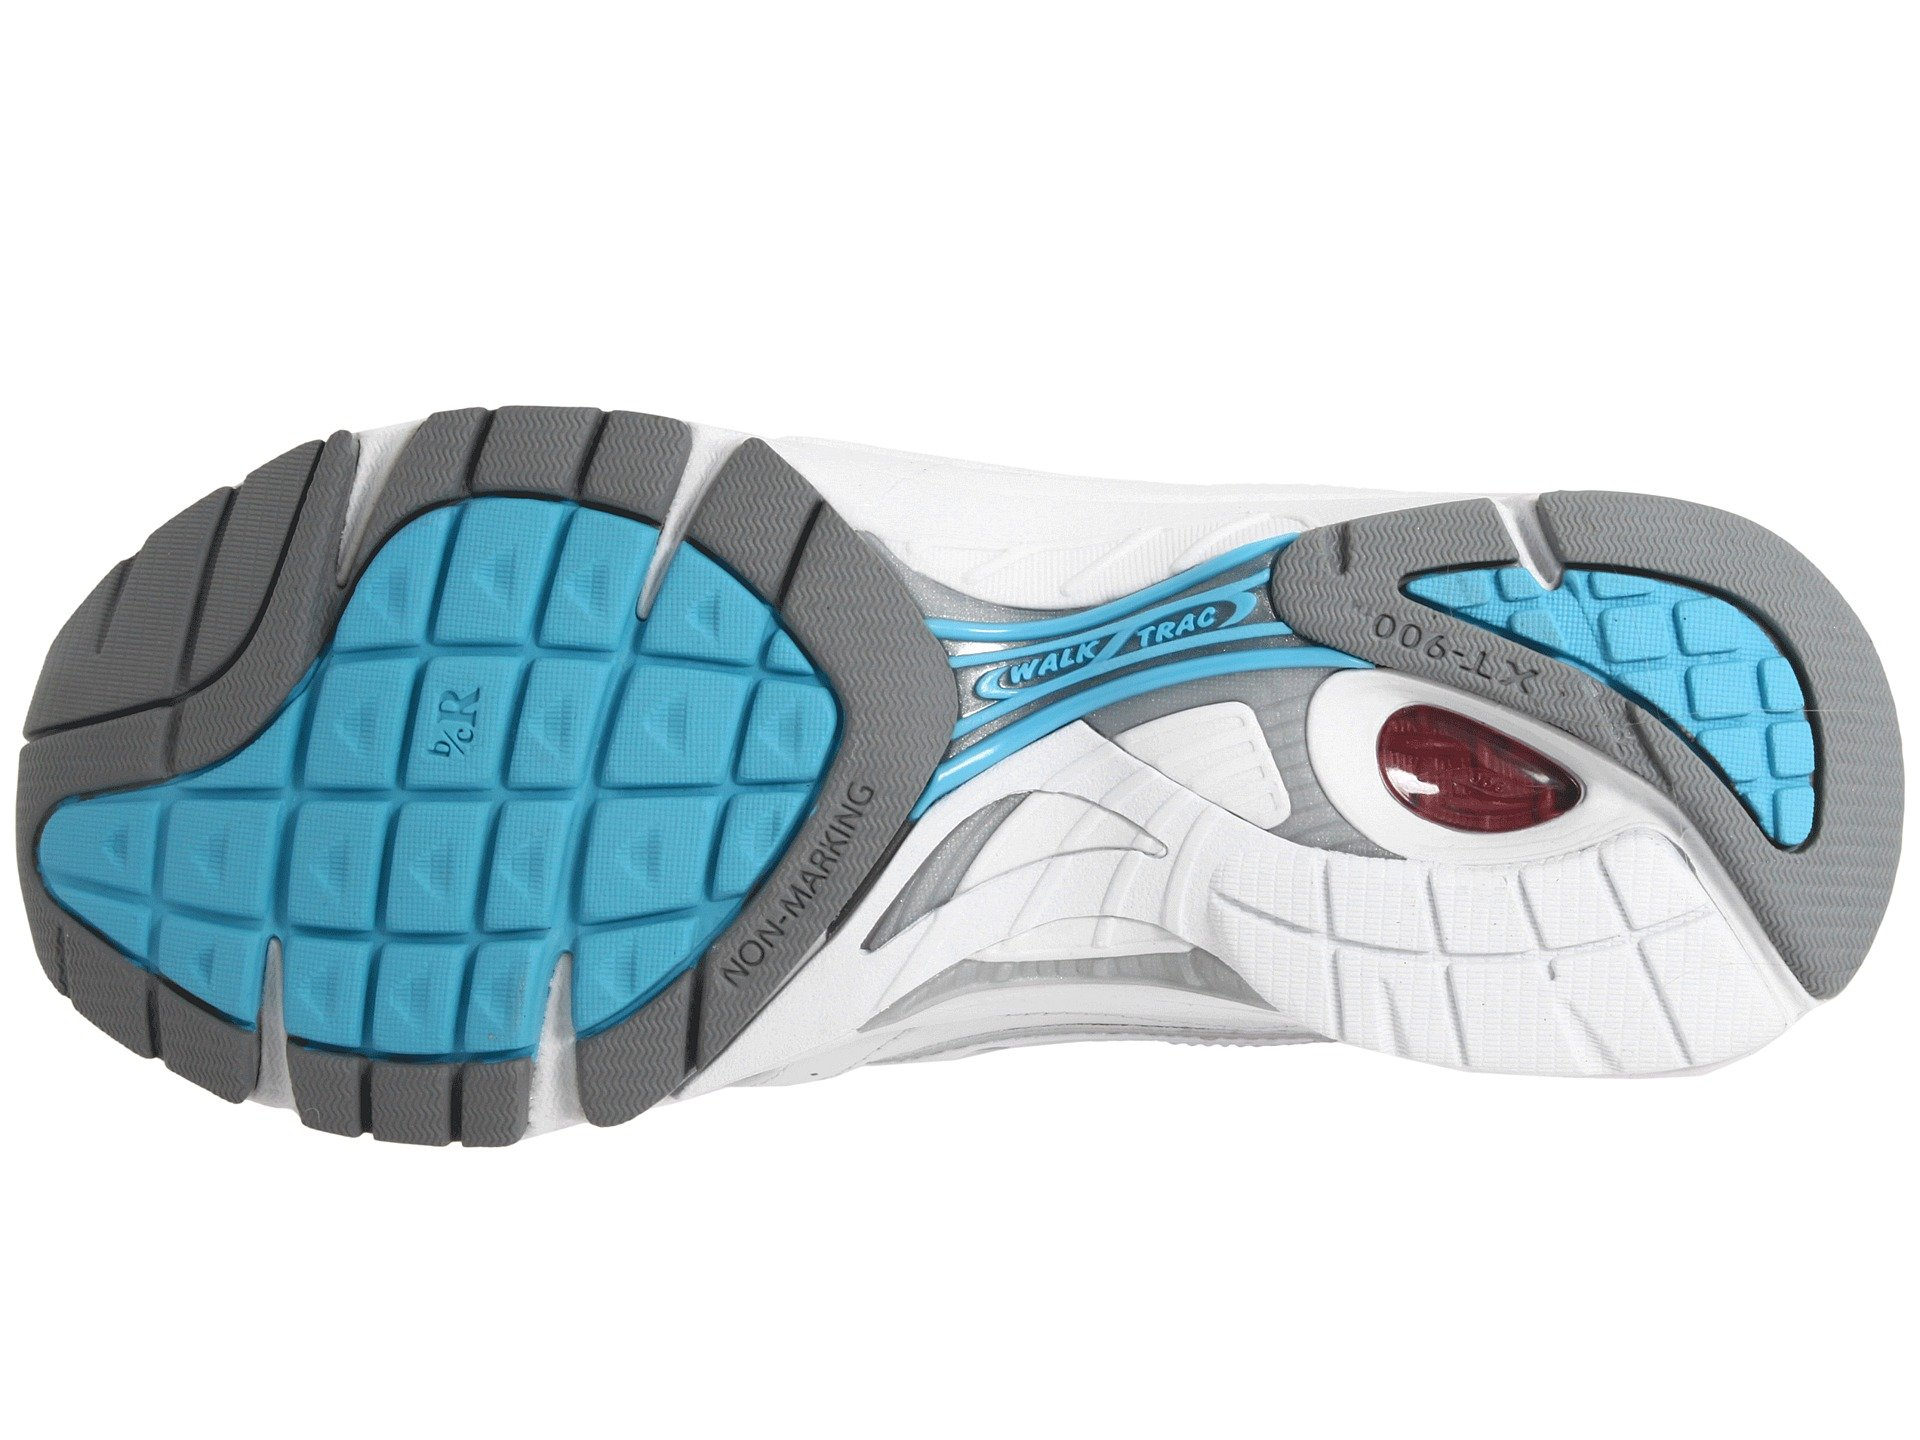chevron: (1459, 228, 1539, 321), (711, 517, 789, 594), (822, 381, 900, 448), (1371, 203, 1438, 269), (1367, 118, 1430, 180), (500, 12, 568, 70), (788, 461, 853, 517)
quad: (213, 357, 443, 629), (513, 245, 765, 479), (1411, 457, 1598, 635), (1596, 182, 1761, 328)
text: (1459, 228, 1539, 321), (711, 517, 789, 594), (428, 286, 500, 362), (822, 381, 900, 448), (1371, 203, 1438, 269), (1001, 253, 1066, 321), (788, 461, 853, 517), (1172, 212, 1220, 257)
